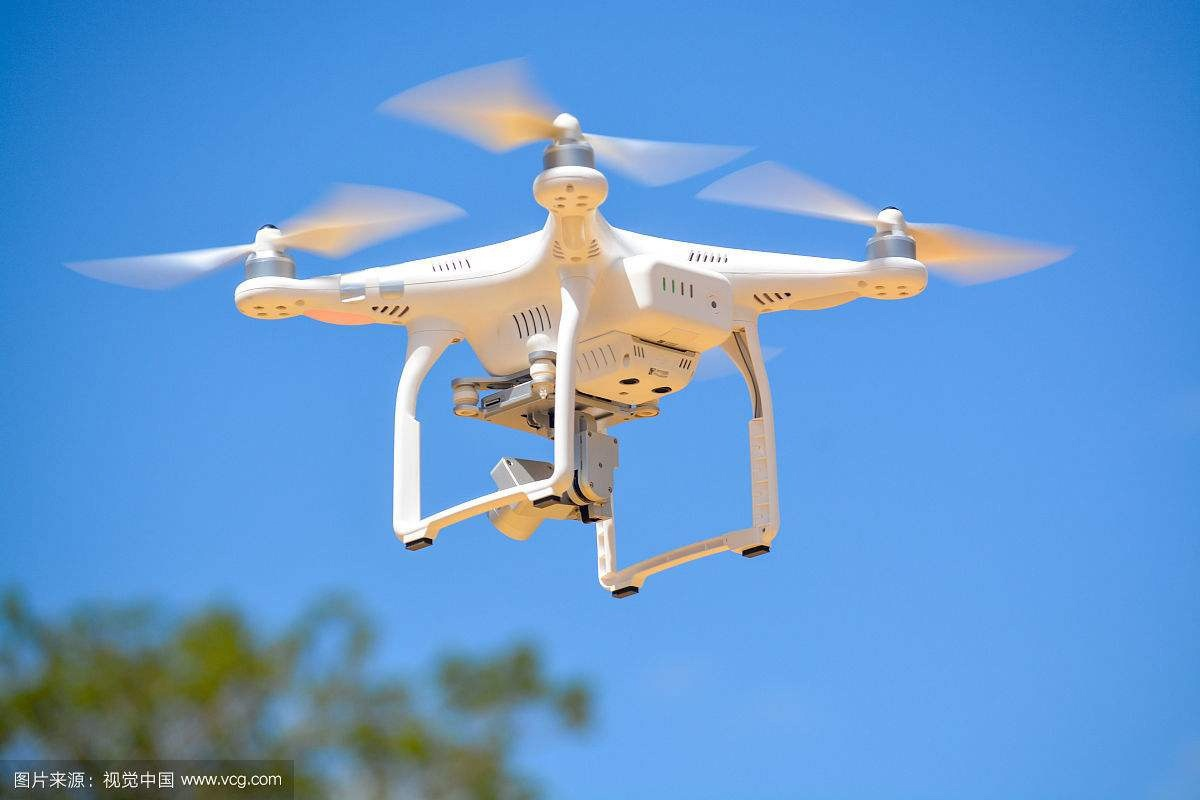DJI: (229, 107, 937, 609)
